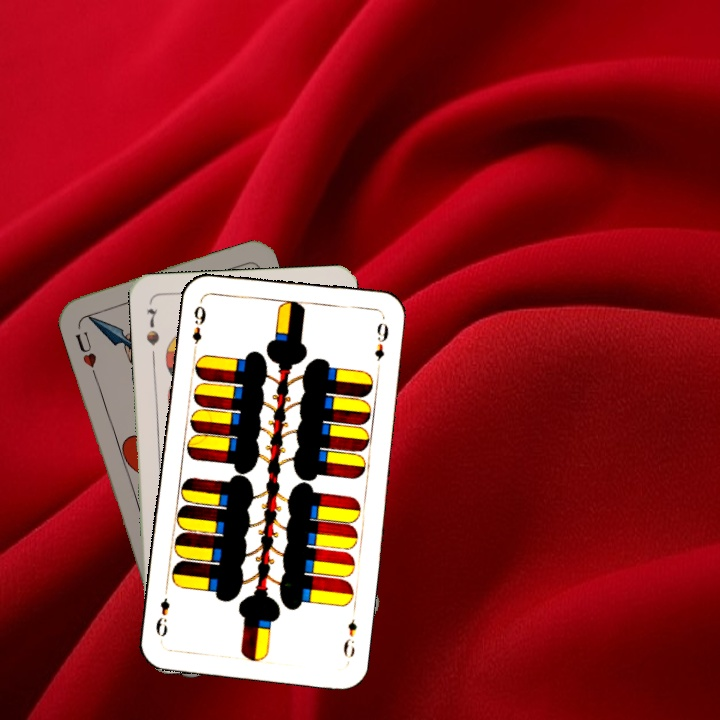E9: (188, 301, 208, 355), (339, 615, 360, 664)
HU: (71, 327, 99, 377)
S7: (142, 304, 162, 348)
